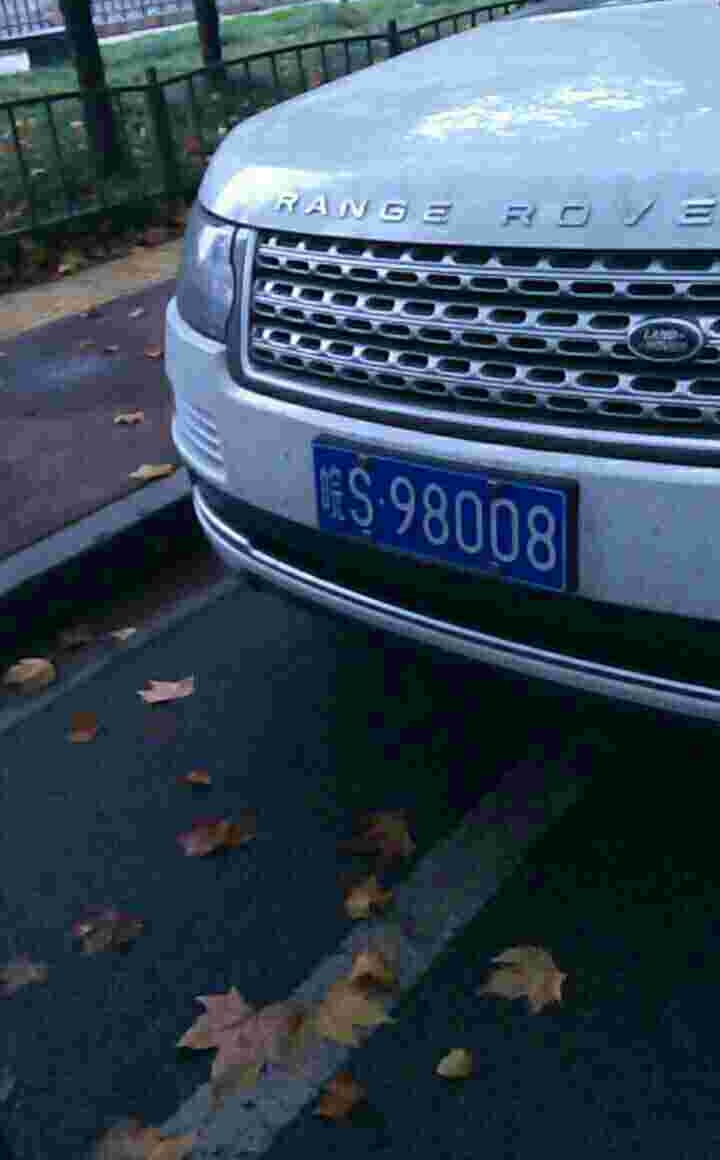license_plate: (296, 443, 570, 590)
